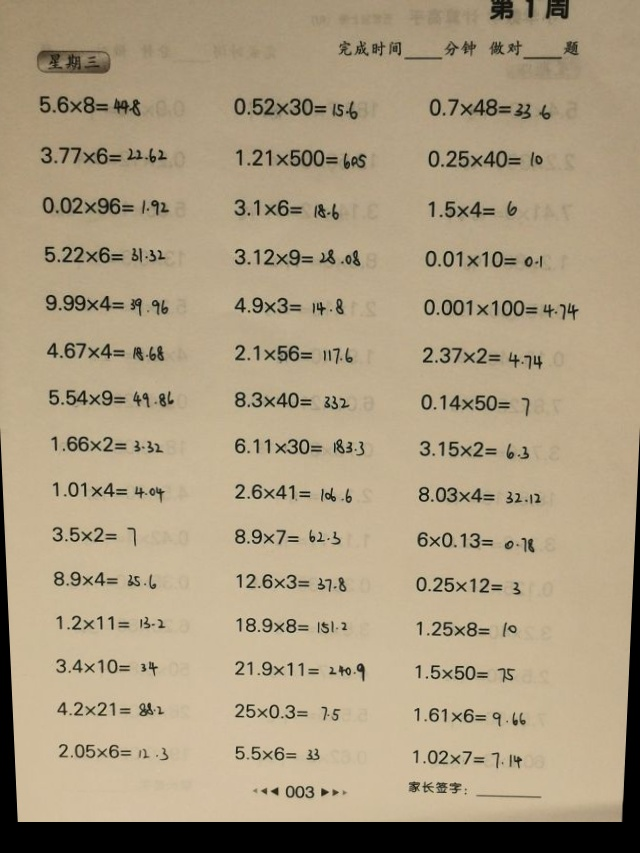equation: (418, 294, 582, 321), (231, 143, 369, 171), (425, 93, 554, 122), (229, 432, 367, 459), (229, 92, 361, 120), (417, 343, 548, 370), (229, 243, 364, 269), (37, 191, 172, 217), (36, 142, 170, 168), (40, 290, 171, 316), (230, 340, 356, 367), (231, 657, 367, 682), (40, 241, 168, 267), (44, 385, 176, 410), (421, 245, 547, 271), (229, 193, 341, 222), (34, 90, 146, 119), (423, 145, 547, 171), (416, 389, 533, 416), (407, 745, 528, 771), (229, 387, 353, 412), (42, 338, 166, 363), (414, 482, 543, 506), (412, 528, 539, 552), (231, 480, 355, 504), (47, 431, 166, 456), (415, 436, 532, 461), (230, 294, 347, 319), (49, 478, 167, 502), (229, 524, 344, 548), (230, 570, 349, 593), (232, 613, 350, 636), (410, 704, 530, 726), (230, 699, 343, 722), (411, 573, 524, 596), (48, 567, 159, 590), (55, 740, 171, 762), (52, 697, 166, 719), (413, 618, 521, 641), (53, 612, 169, 633), (411, 661, 516, 684), (52, 655, 161, 677), (49, 523, 140, 549), (425, 198, 520, 222), (231, 742, 323, 764)
